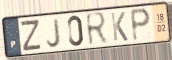0: (67, 15, 85, 48)
J: (46, 17, 62, 49)
K: (110, 11, 130, 43)
P: (129, 7, 152, 44)
R: (84, 10, 110, 49)
Z: (20, 18, 43, 53)
